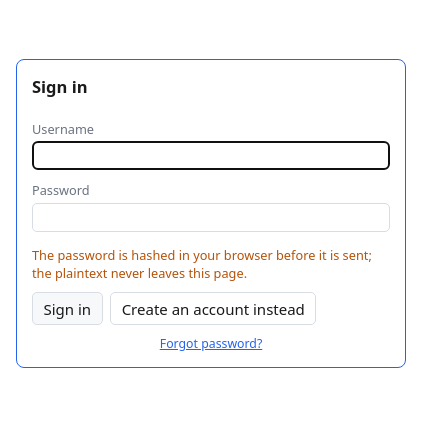
Test: AuthScreen › resets a password by username alone, with no current password asked for
Click the button "Forgot password?" at point(211, 344), box top-left (32, 335), bottom-right (390, 352)
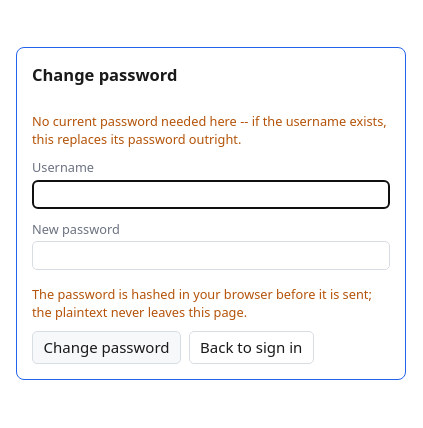
Type "eric" into the field labelled "Username" at point(211, 195), box top-left (32, 180), bottom-right (390, 209)
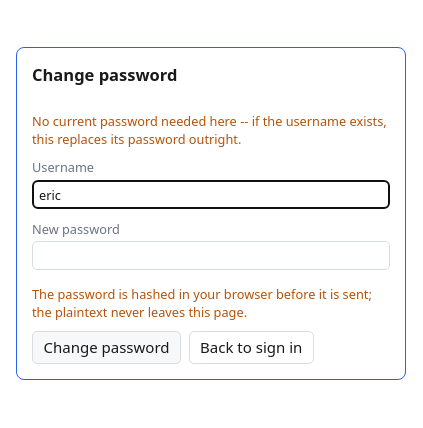
Type "a new password" into the password field labelled "New password" at point(211, 256), box top-left (32, 241), bottom-right (390, 270)
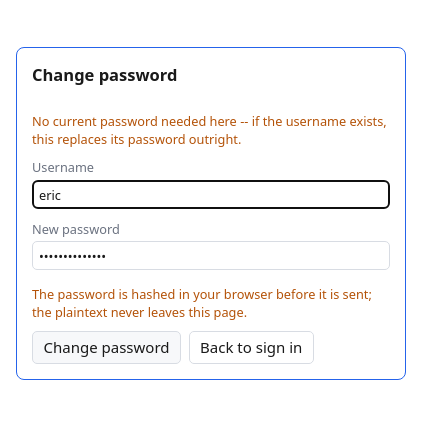
Click the button "Change password" at point(106, 347), box top-left (32, 331), bottom-right (181, 364)
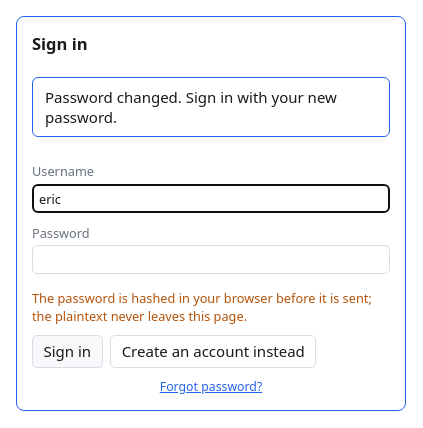
Check: the text "Password changed. Sign in with your new password." is shown, box top-left (32, 77), bottom-right (390, 137)
Check: the heading "Sign in" is shown, box top-left (32, 32), bottom-right (88, 55)
